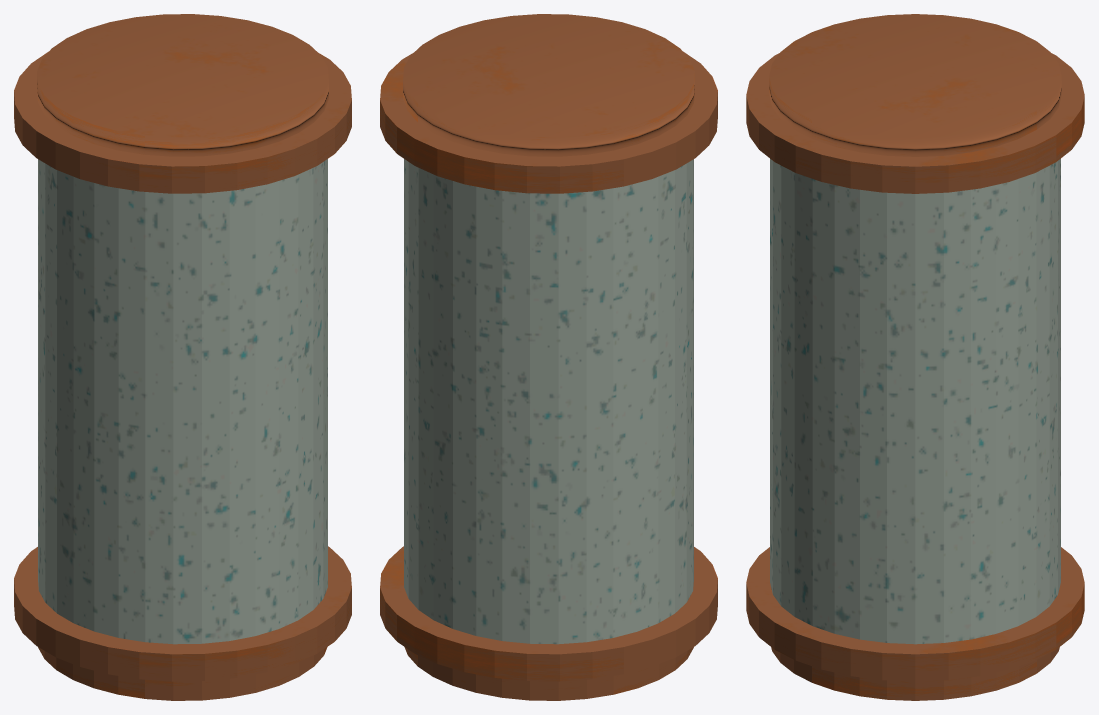
File: animation.gltf
3 renders of one model, left to right at view 1: azimuth 30°, elevation 25°; view 2: azimuth 150°, elevation 25°; view 3: azimuth 270°, elevation 25°, orthographic.
Visible parts, largest first — view 1: Cylinder.001, Cylinder.004, Cylinder.002, Cylinder, Cylinder.003; view 2: Cylinder.001, Cylinder.004, Cylinder.002, Cylinder, Cylinder.003; view 3: Cylinder.001, Cylinder.004, Cylinder.002, Cylinder, Cylinder.003.
Part boxes in pixels (x1,y1,x2,y2): Cylinder.001: [38, 159, 327, 644]; Cylinder.004: [37, 14, 328, 156]; Cylinder.002: [14, 546, 351, 681]; Cylinder: [14, 51, 351, 193]; Cylinder.003: [38, 647, 327, 700]; Cylinder.001: [404, 159, 693, 644]; Cylinder.004: [403, 14, 694, 156]; Cylinder.002: [380, 546, 717, 681]; Cylinder: [380, 51, 717, 193]; Cylinder.003: [404, 647, 693, 700]; Cylinder.001: [770, 159, 1060, 644]; Cylinder.004: [769, 14, 1061, 156]; Cylinder.002: [746, 547, 1084, 681]; Cylinder: [746, 53, 1084, 193]; Cylinder.003: [771, 647, 1059, 700].
Bounding box in the file's own units: 1.78 × 3.26 × 1.78.
Materials: 5 (5 with a texture image).
